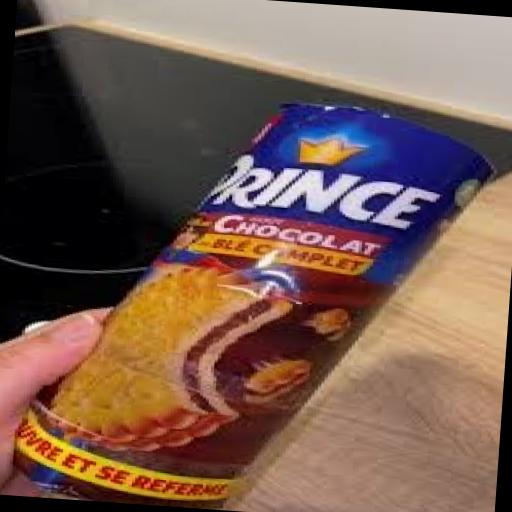prince: (26, 53, 484, 512)
